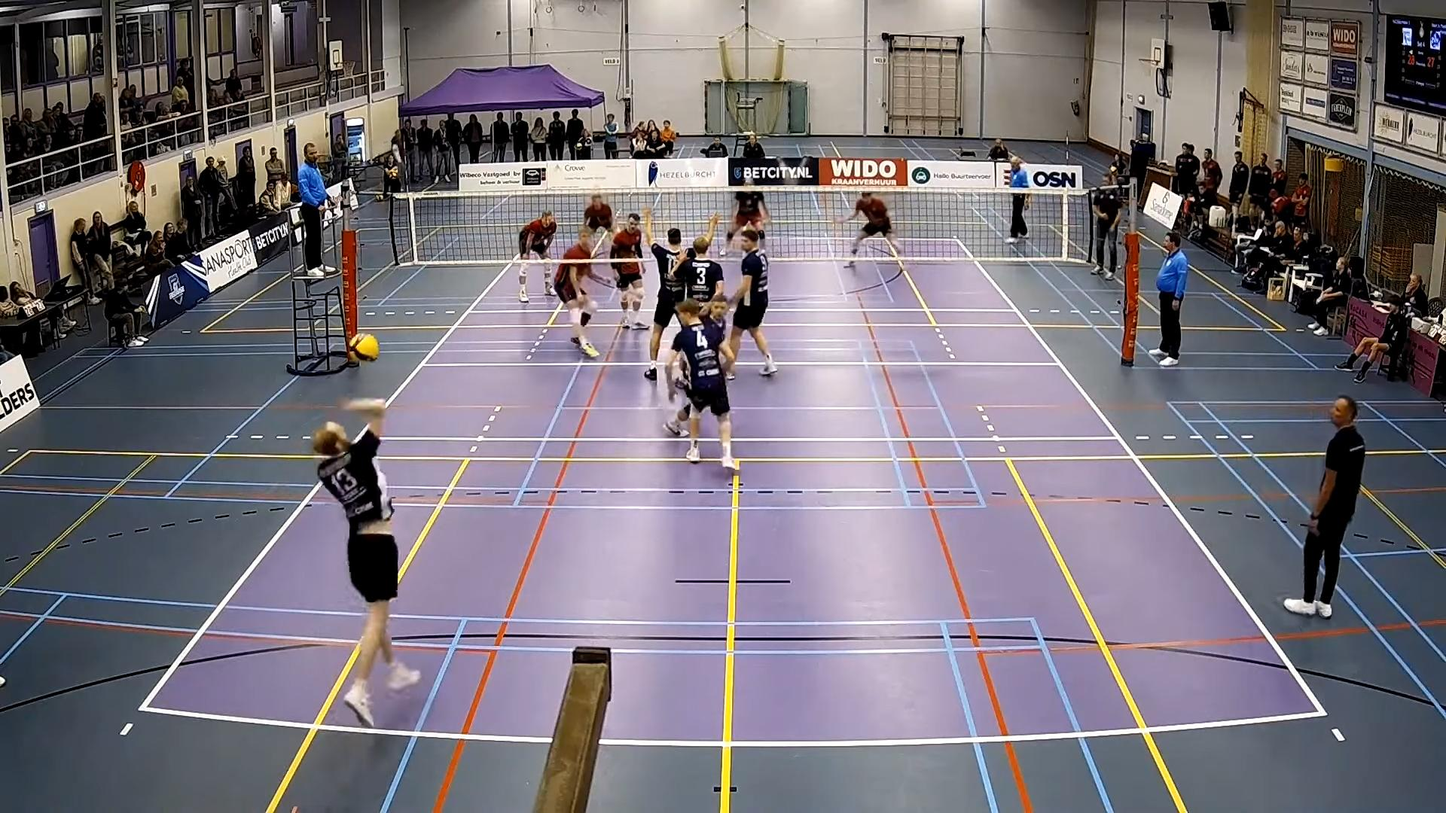Player: (664, 299, 737, 470), (642, 209, 692, 380), (554, 228, 612, 358), (729, 228, 777, 375), (611, 214, 647, 329), (839, 192, 898, 257), (518, 211, 556, 302), (720, 187, 768, 255), (675, 236, 724, 302), (583, 193, 612, 235)
Serve: (313, 399, 417, 722)
ball: (349, 336, 382, 361)
